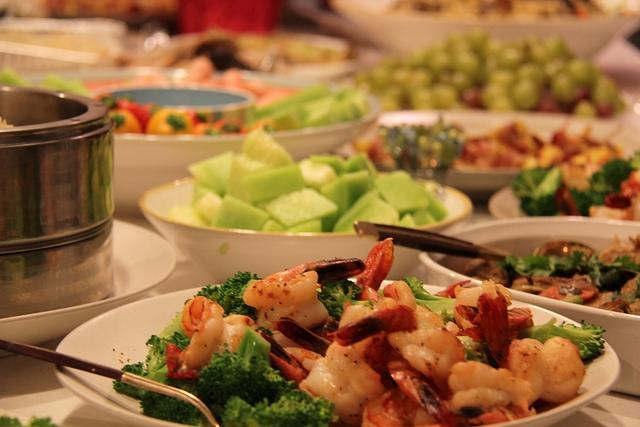broccoli: (197, 326, 298, 406), (222, 389, 339, 426), (516, 316, 606, 360), (511, 166, 562, 216), (316, 279, 374, 322), (142, 331, 190, 382), (404, 277, 456, 318), (586, 157, 638, 195), (220, 270, 251, 296)
grape: (510, 79, 540, 111), (559, 84, 591, 114), (590, 74, 618, 104), (552, 69, 576, 101), (496, 47, 528, 71), (534, 88, 566, 112), (516, 61, 545, 87), (542, 57, 570, 81), (452, 51, 481, 74), (407, 86, 434, 110), (466, 26, 489, 54), (368, 64, 392, 88), (409, 45, 434, 68), (446, 33, 470, 56), (432, 86, 456, 109), (459, 86, 484, 108), (410, 66, 434, 88), (482, 38, 506, 58), (382, 53, 406, 73), (488, 67, 516, 83), (391, 66, 413, 86), (380, 94, 400, 112), (542, 36, 566, 50), (511, 37, 526, 52)
